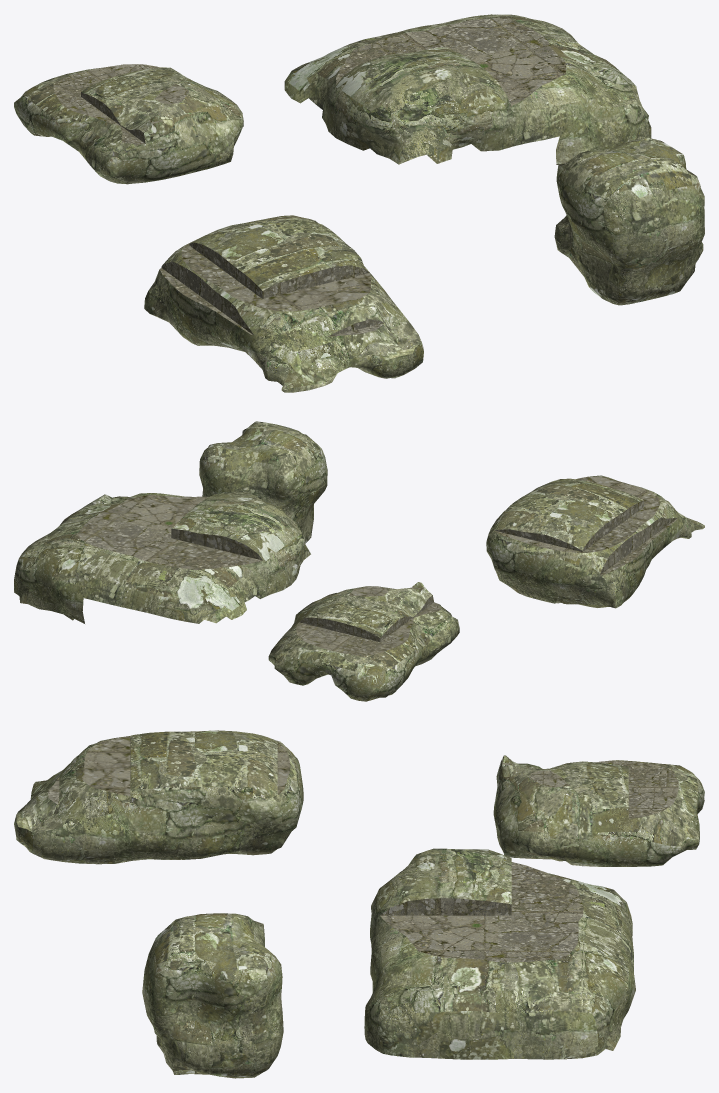
File: SM_Chateaux_03_00.fbx
3 views of the same model, one above another, from view 1: azimuth 30°, elevation 25°; view 2: azimuth 150°, elevation 25°; view 3: azimuth 270°, elevation 25° (orthographic). The views are drawn at different scales.
Visible parts, largest first — view 1: SM_Chateaux_03_00; view 2: SM_Chateaux_03_00; view 3: SM_Chateaux_03_00.
Part boxes in pixels (bbox=[...]): SM_Chateaux_03_00: bbox=[14, 14, 704, 392]; SM_Chateaux_03_00: bbox=[14, 421, 704, 701]; SM_Chateaux_03_00: bbox=[14, 730, 704, 1078].
Bounding box in the file's own units: 2637 × 720 × 2758.
